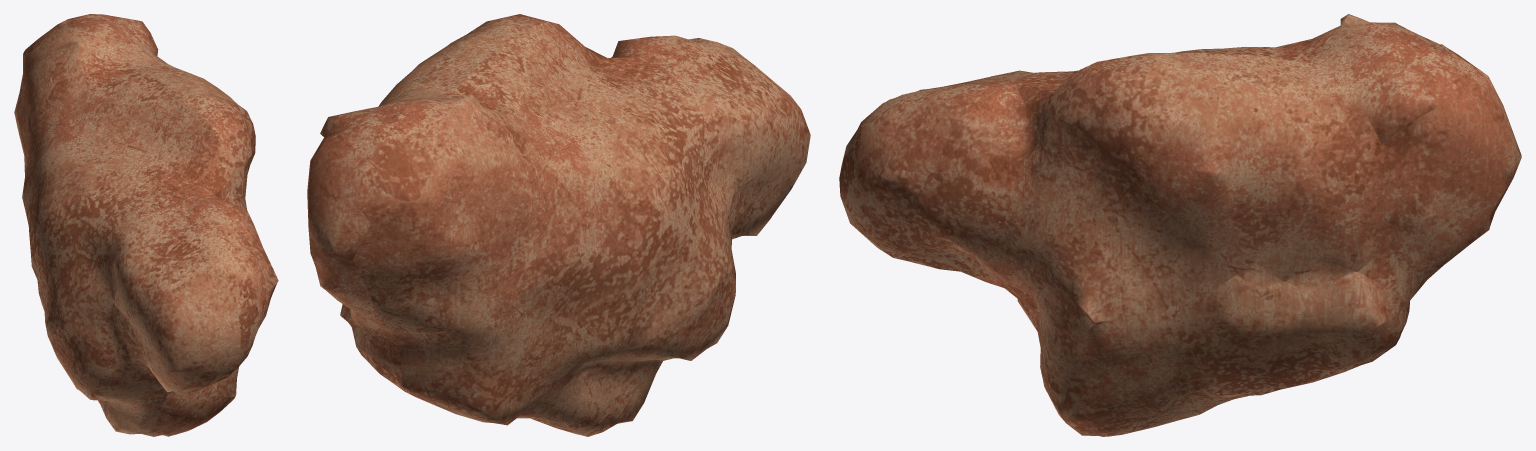
The model's file is Desert_Rock_Base.obj.
3 renders of one model, left to right at view 1: azimuth 30°, elevation 25°; view 2: azimuth 150°, elevation 25°; view 3: azimuth 270°, elevation 25°, orthographic. The views are drawn at different scales.
Visible parts, largest first — view 1: defaultMaterial_1; view 2: defaultMaterial_1; view 3: defaultMaterial_1.
Part boxes in pixels (left/top/right/bottom): defaultMaterial_1: left=14, top=14, right=278, bottom=436; defaultMaterial_1: left=307, top=14, right=810, bottom=436; defaultMaterial_1: left=839, top=14, right=1521, bottom=436.
Size of the model in its own units: 98.38 by 136 by 200.
1 material, 1 textured.
